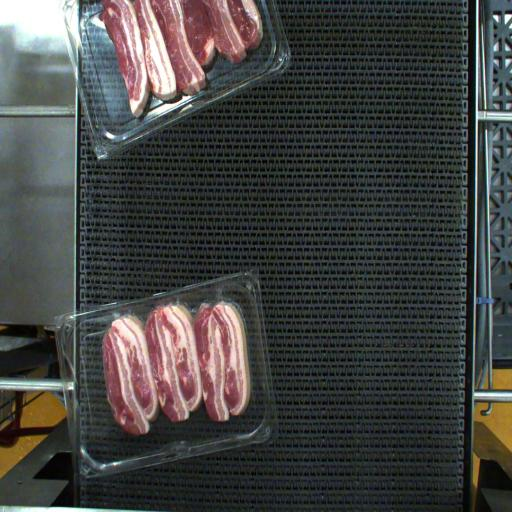unsealed: (110, 285, 249, 429)
